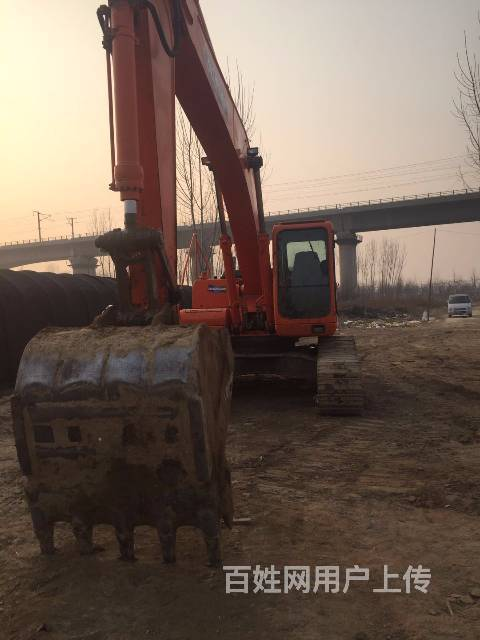excavator: (12, 3, 340, 558)
